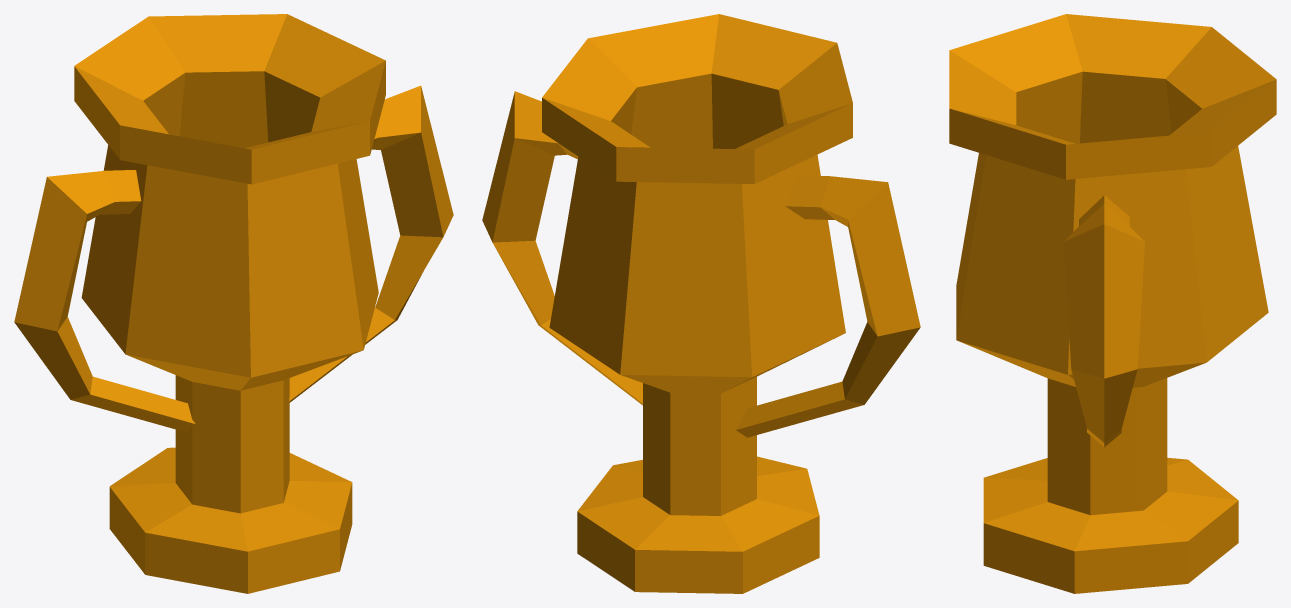
Rendered from TrophyCup.glb.
3 renders of one model, left to right at view 1: azimuth 30°, elevation 25°; view 2: azimuth 150°, elevation 25°; view 3: azimuth 270°, elevation 25°, orthographic.
Visible parts, largest first — view 1: Cup; view 2: Cup; view 3: Cup.
Boxes of the visible parts, x1,y1,x2,y2 form: Cup: (14, 14, 453, 593); Cup: (482, 14, 920, 593); Cup: (949, 14, 1276, 593).
Bounding box in the file's own units: 1 × 1 × 0.6404.
